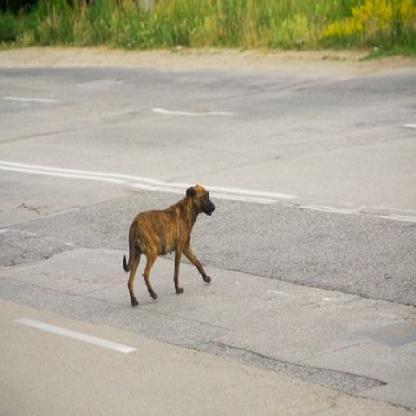dog: (134, 177, 224, 310)
